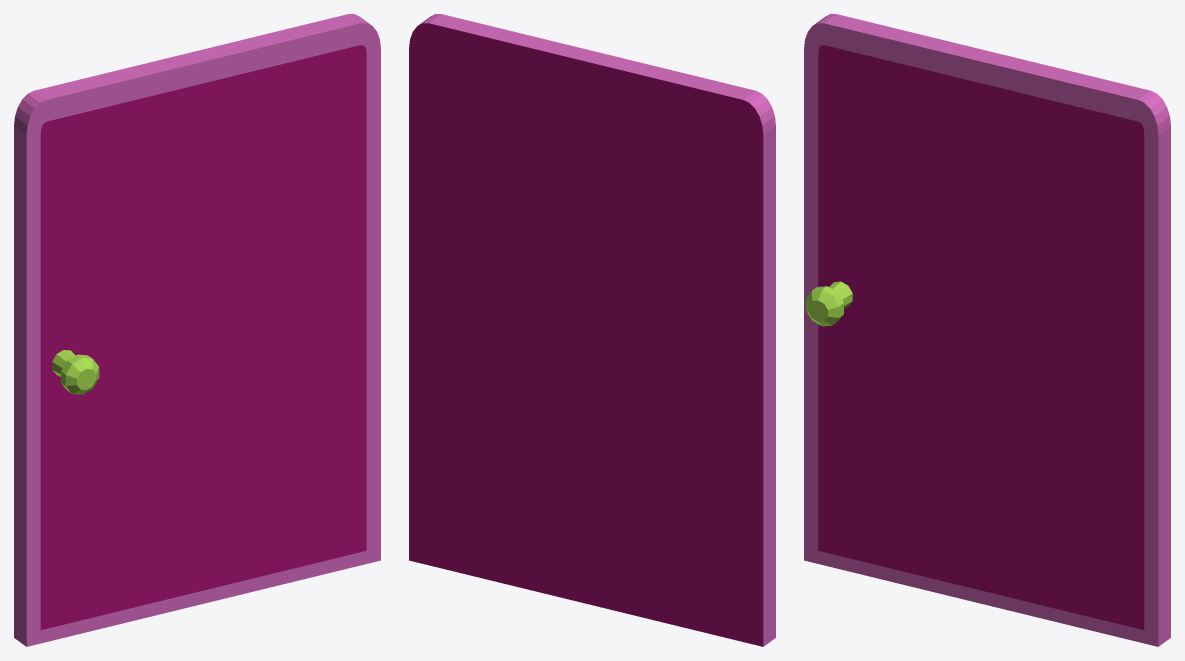
The model's file is StorageDoor.fbx.
3 views of the same model, side by side, from view 1: azimuth 30°, elevation 25°; view 2: azimuth 150°, elevation 25°; view 3: azimuth 330°, elevation 25° (orthographic).
Parts seen in each view (by area): view 1: StorageDoor; view 2: StorageDoor; view 3: StorageDoor.
Part boxes in pixels (x1=…): StorageDoor: x1=14, y1=14, x2=380, y2=646; StorageDoor: x1=409, y1=14, x2=775, y2=646; StorageDoor: x1=804, y1=14, x2=1170, y2=646.
Size of the model in its own units: 349 by 510 by 60.45.
